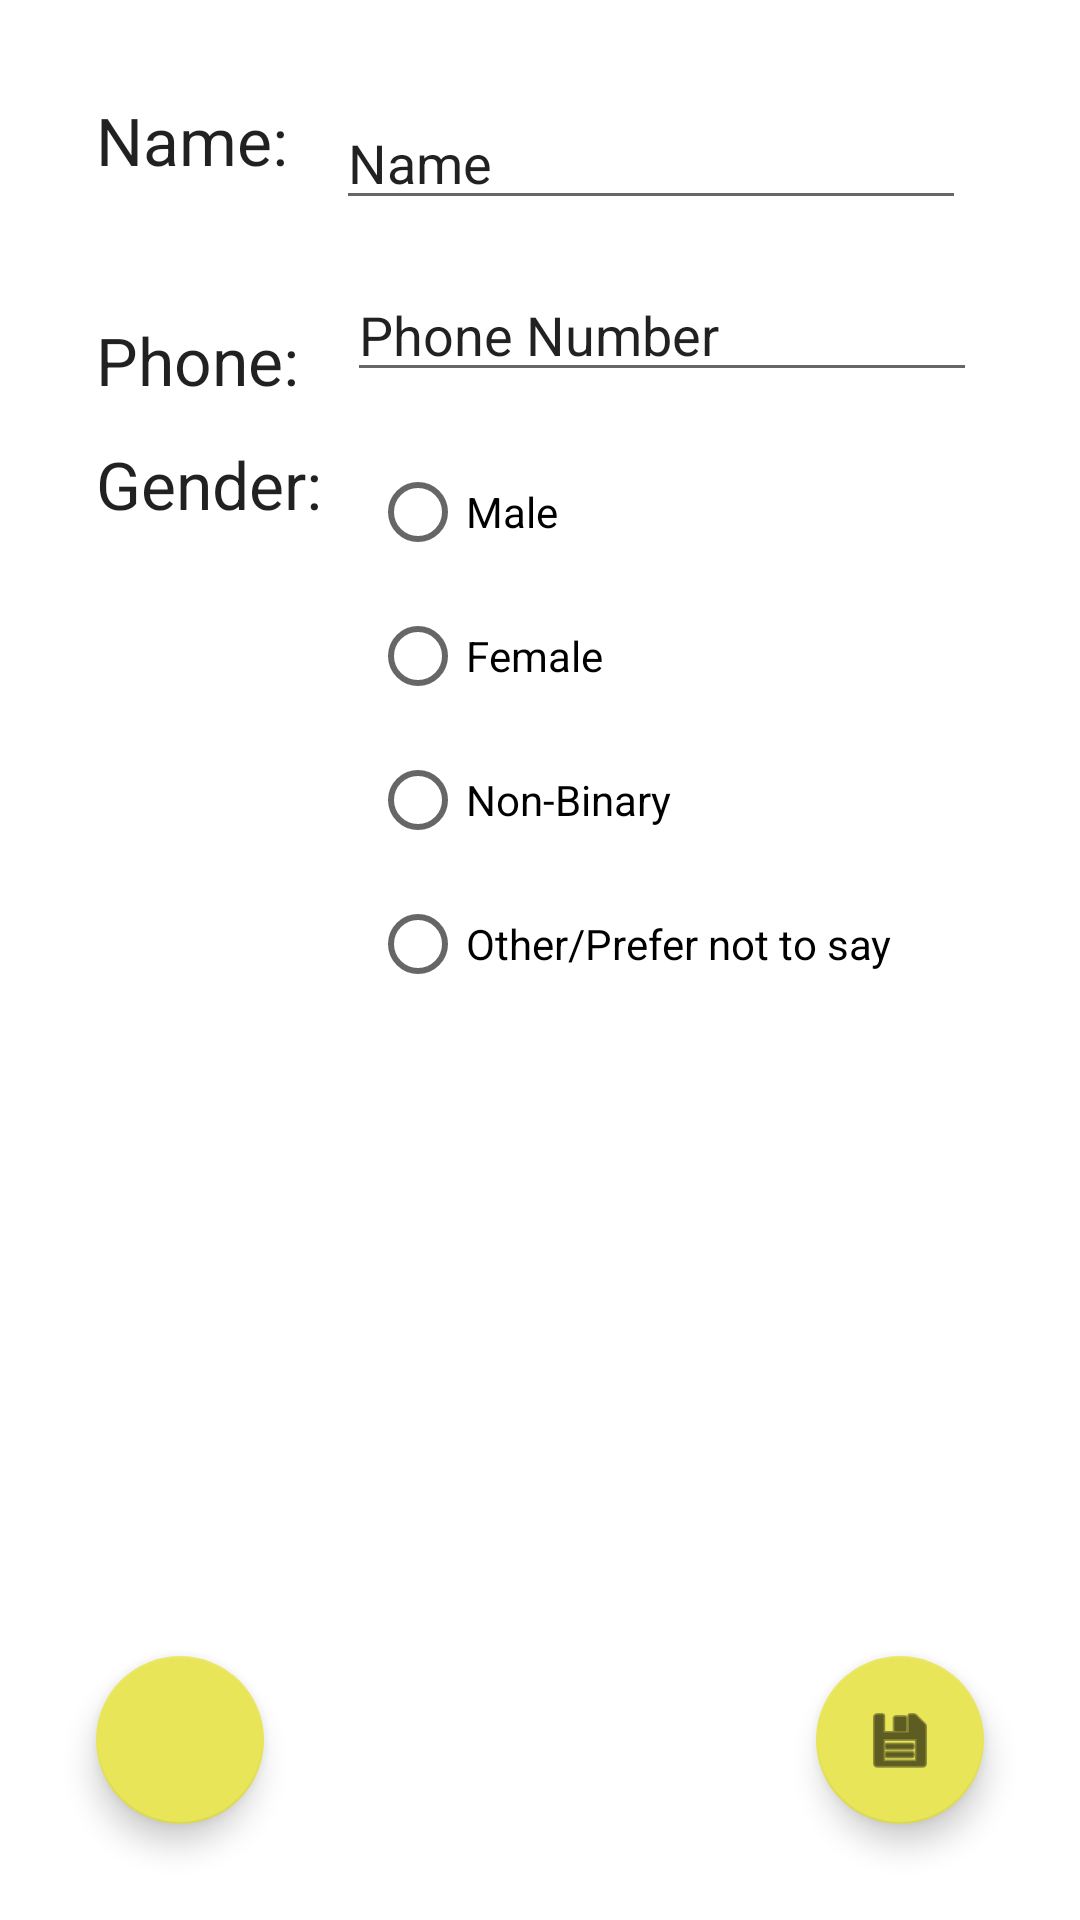

Icon bounding boxes for this 1080×1920 phone screenshot, format region(x1, y1, x2, y2):
save: region(816, 1656, 984, 1824)
